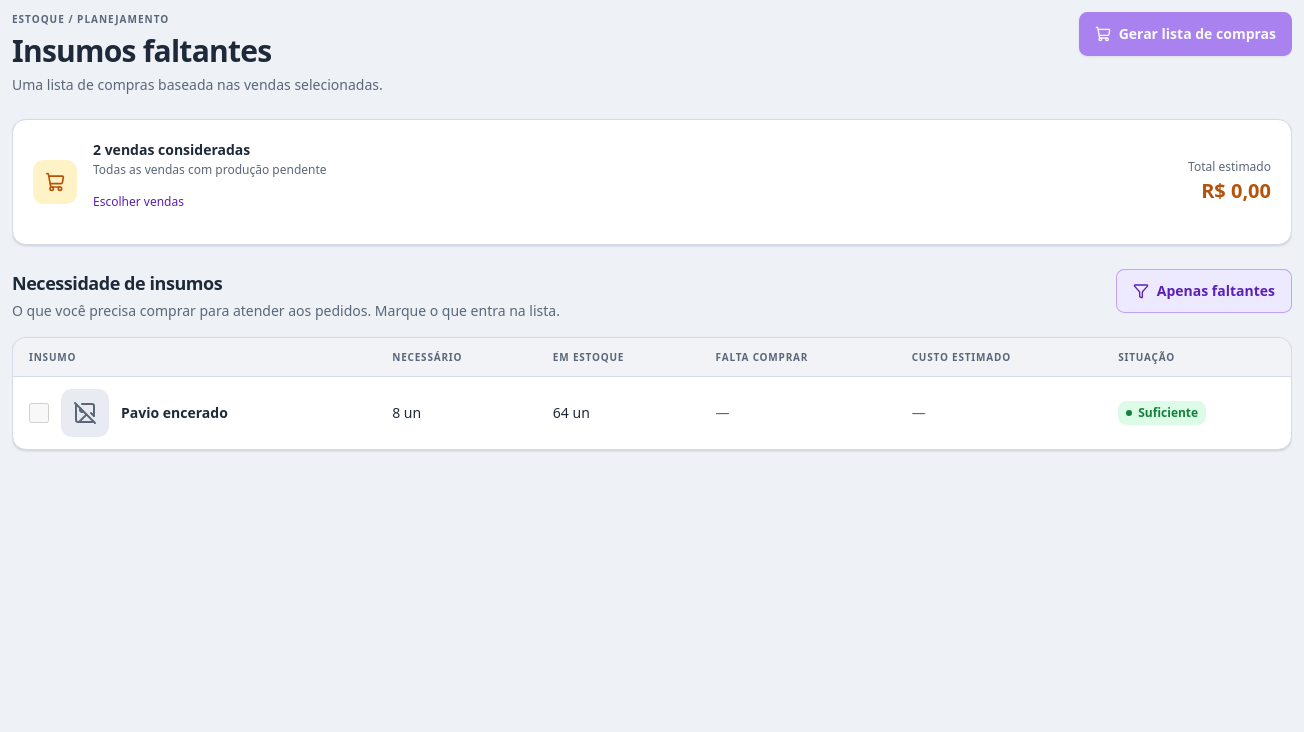
the filter "apenas faltantes" › says nothing is missing, with a way back, when the stock covers it all
Expected: the checkbox labelled "Pavio encerado" is shown, [29,403,49,423]
Step 1. Click the button "Apenas faltantes" → (1204,291), box [1116,269,1292,313]
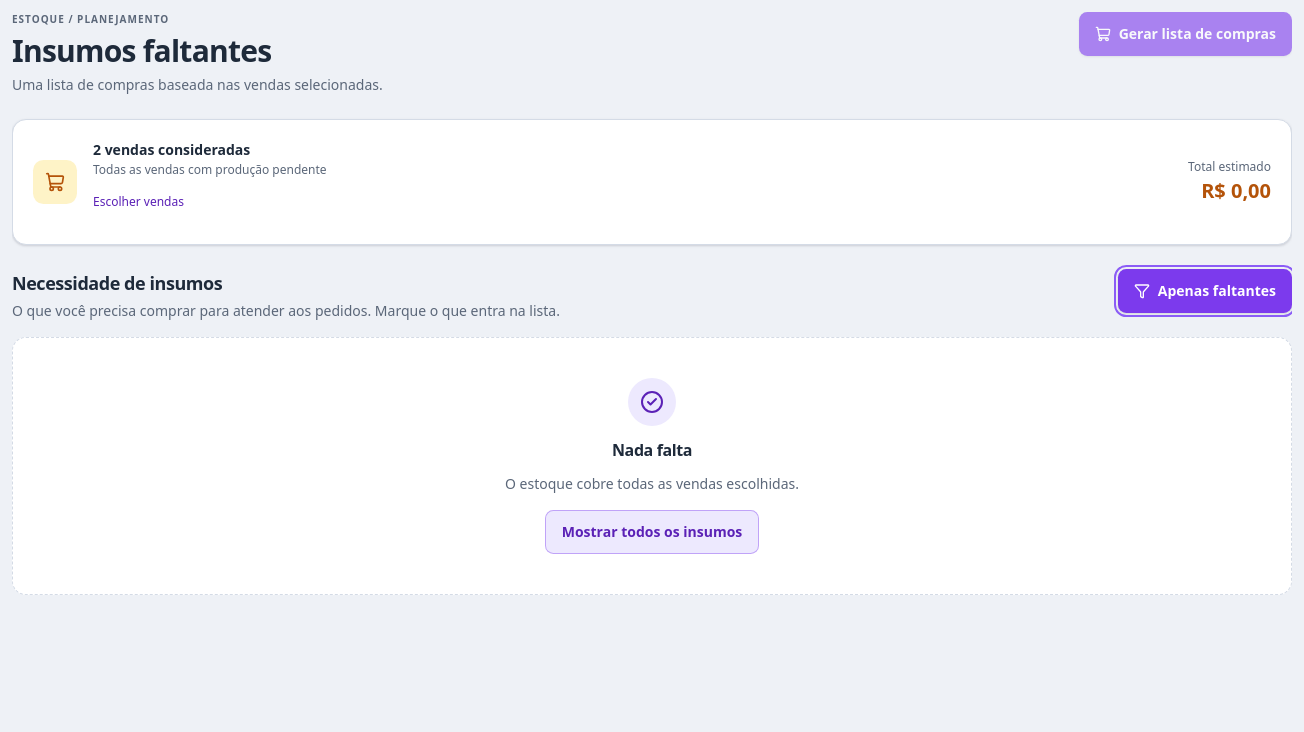
Expected: the heading "Nada falta" is shown, [612,438,692,462]
Step 2. Click the button "Mostrar todos os insumos" → (652,532), box [545,510,759,554]
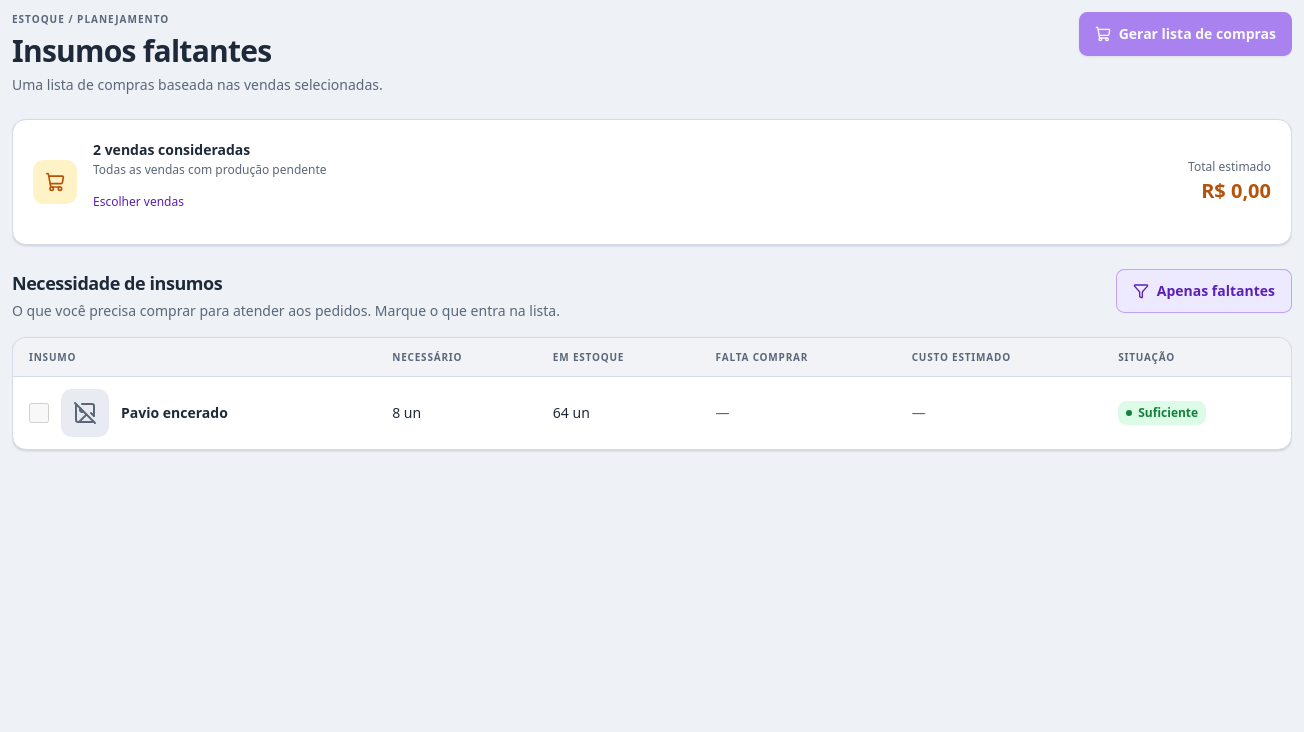
Expected: the checkbox labelled "Pavio encerado" is shown, [29,403,49,423]
